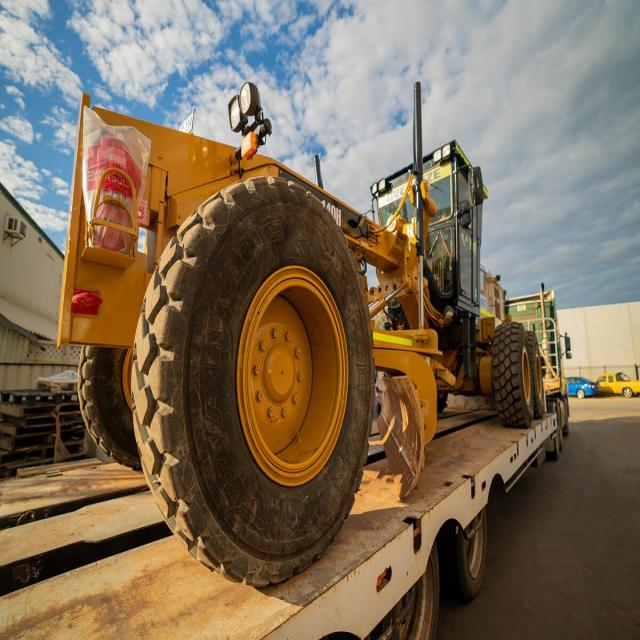Grader: (66, 25, 561, 556)
